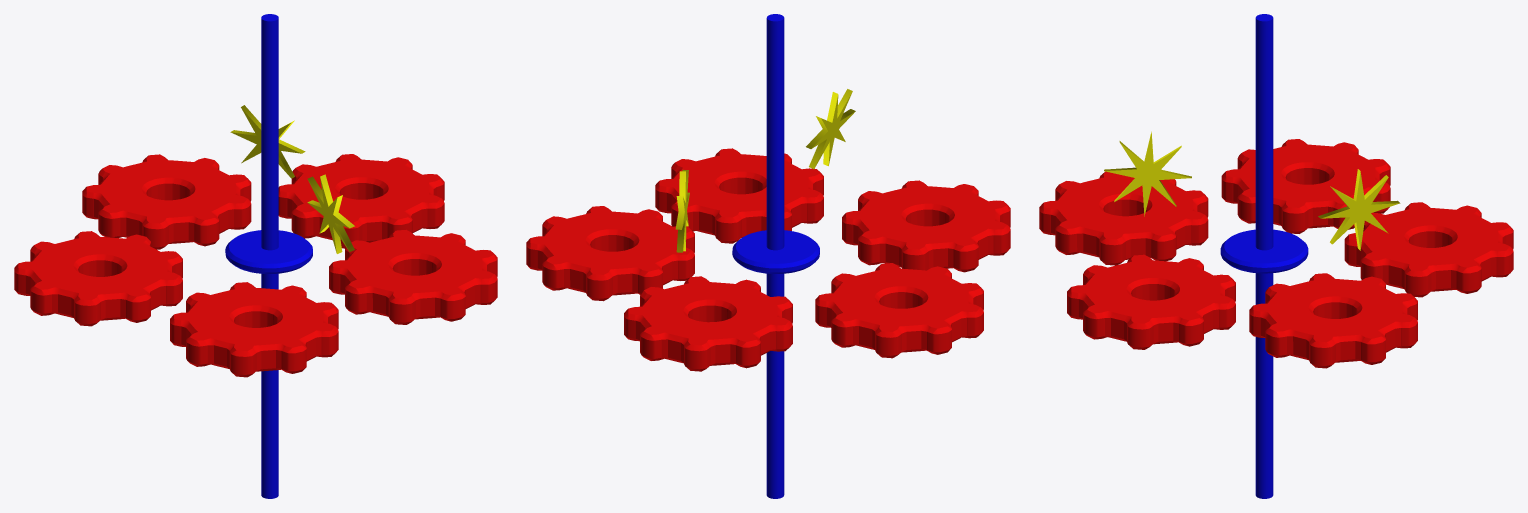
Rendered from secondStageModel2.fbx.
3 renders of one model, left to right at view 1: azimuth 30°, elevation 25°; view 2: azimuth 150°, elevation 25°; view 3: azimuth 270°, elevation 25°, orthographic.
Parts seen in each view (by area): view 1: pCylinder4; view 2: pCylinder4; view 3: pCylinder4.
Boxes of the visible parts, bbox=[...] form: pCylinder4: bbox=[14, 14, 497, 498]; pCylinder4: bbox=[526, 14, 1010, 498]; pCylinder4: bbox=[1039, 14, 1513, 498].
Size of the model in its own units: 13.82 by 14.88 by 13.39.
